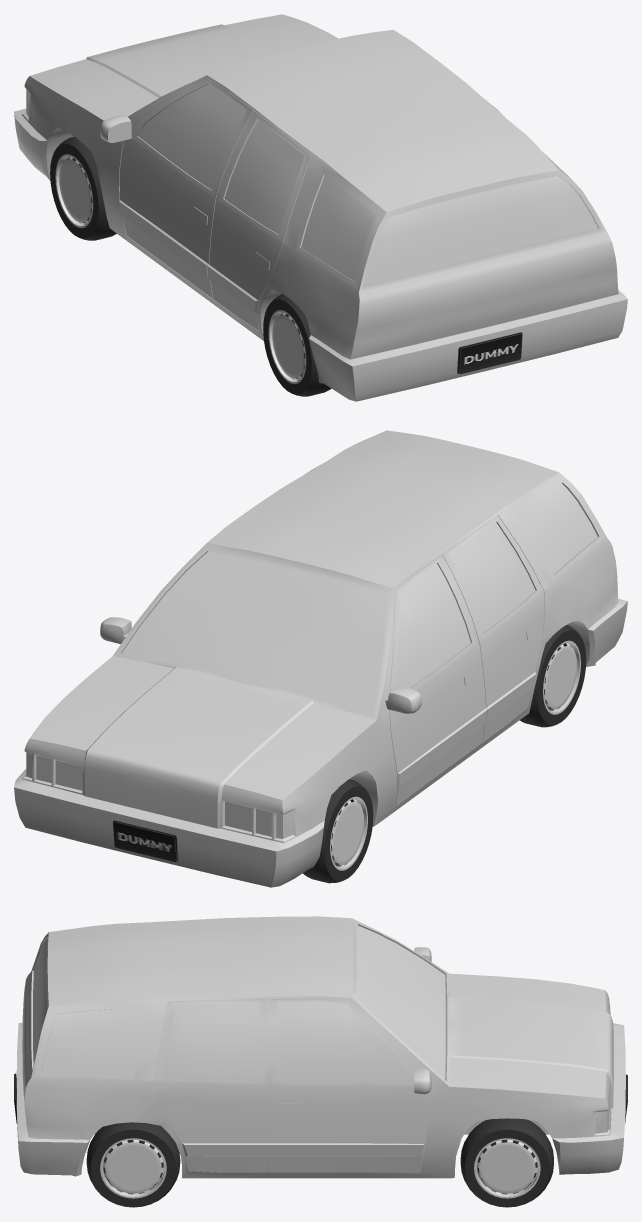
Rendered from Car.fbx.
3 views of the same model, one above another, from view 1: azimuth 30°, elevation 25°; view 2: azimuth 150°, elevation 25°; view 3: azimuth 270°, elevation 25° (orthographic). The views are drawn at different scales.
Visible parts, largest first — view 1: BodyWagon, Wheel.004, Wheel.005, Plate2.001; view 2: BodyWagon, Wheel.004, Wheel.005, Plate.001; view 3: BodyWagon, Wheel.007, Wheel.006.
Boxes of the visible parts, x1=… form: BodyWagon: x1=14, y1=14, x2=627, y2=401; Wheel.004: x1=50, y1=136, x2=116, y2=240; Wheel.005: x1=263, y1=294, x2=331, y2=396; Plate2.001: x1=457, y1=332, x2=522, y2=374; BodyWagon: x1=14, y1=430, x2=627, y2=887; Wheel.004: x1=303, y1=779, x2=373, y2=883; Wheel.005: x1=519, y1=625, x2=586, y2=727; Plate.001: x1=113, y1=820, x2=178, y2=862; BodyWagon: x1=16, y1=916, x2=625, y2=1178; Wheel.007: x1=460, y1=1118, x2=553, y2=1207; Wheel.006: x1=86, y1=1122, x2=180, y2=1207.
Bounding box in the file's own units: 445 × 302 × 854.
